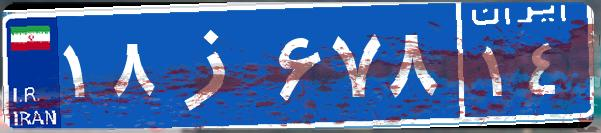1: (57, 26, 110, 107), (475, 38, 525, 113)
4: (525, 38, 570, 115)
6: (273, 28, 330, 110)
7: (330, 28, 385, 110)
8: (385, 28, 445, 110), (110, 28, 158, 105)
ز: (158, 15, 273, 115)
